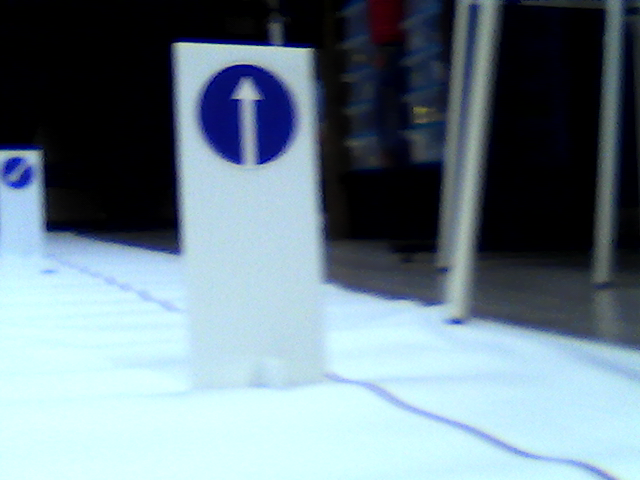forw: (196, 60, 299, 170)
prep: (2, 158, 32, 186)
